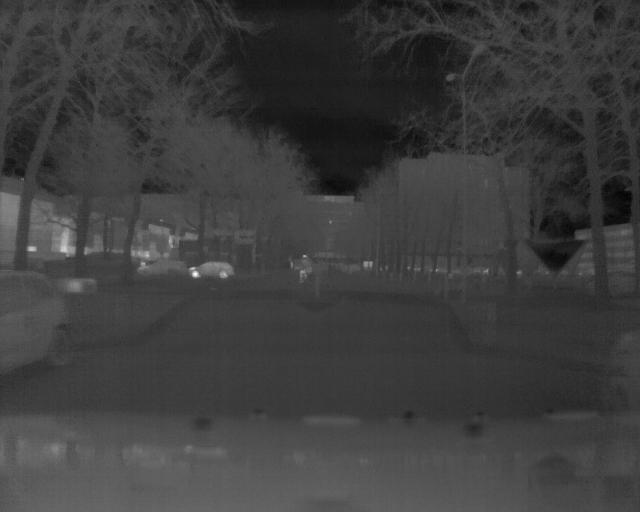car: (1, 271, 77, 372), (140, 256, 187, 280), (188, 256, 233, 278)
person: (298, 249, 313, 285)
